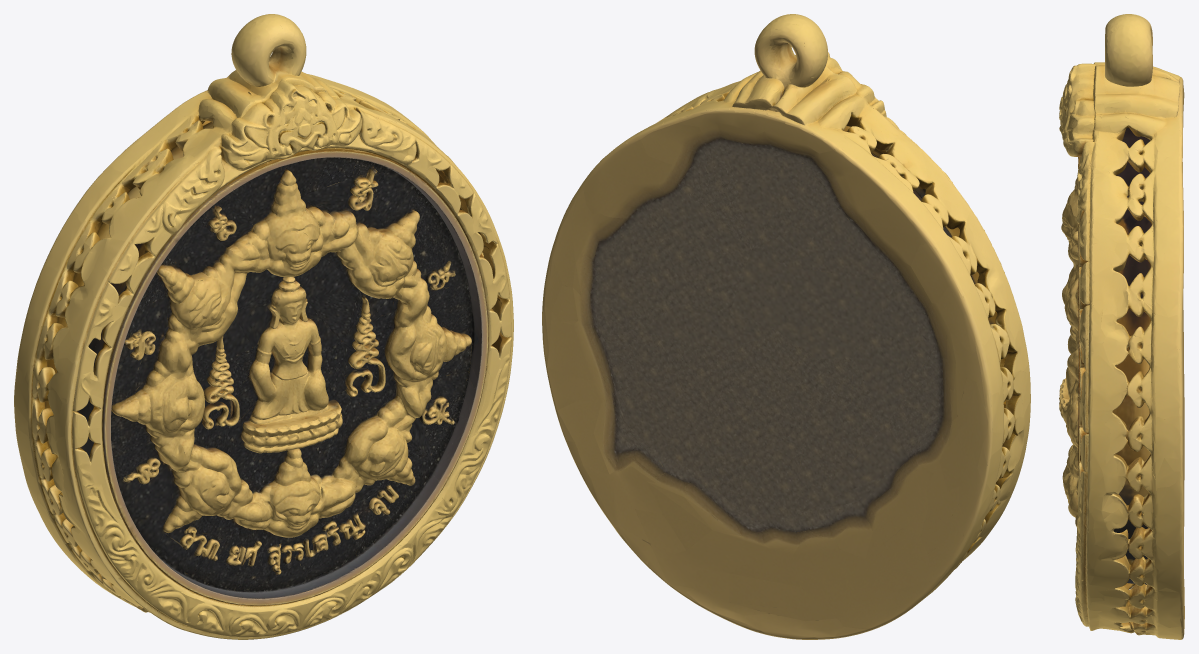
Rendered from original-jatukham.glb.
The picture shows the model from 3 angles, left to right: view 1: azimuth 30°, elevation 25°; view 2: azimuth 150°, elevation 25°; view 3: azimuth 270°, elevation 25°; orthographic projection. The views are drawn at different scales.
Visible parts, largest first — view 1: Mesh_0; view 2: Mesh_0; view 3: Mesh_0.
Boxes of the visible parts, x1,y1,x2,y2 form: Mesh_0: [14, 14, 513, 639]; Mesh_0: [542, 14, 1030, 639]; Mesh_0: [1059, 14, 1184, 639].
Size of the model in its own units: 1.5 by 1.9 by 0.3613.
Materials: 1 (1 with a texture image).
